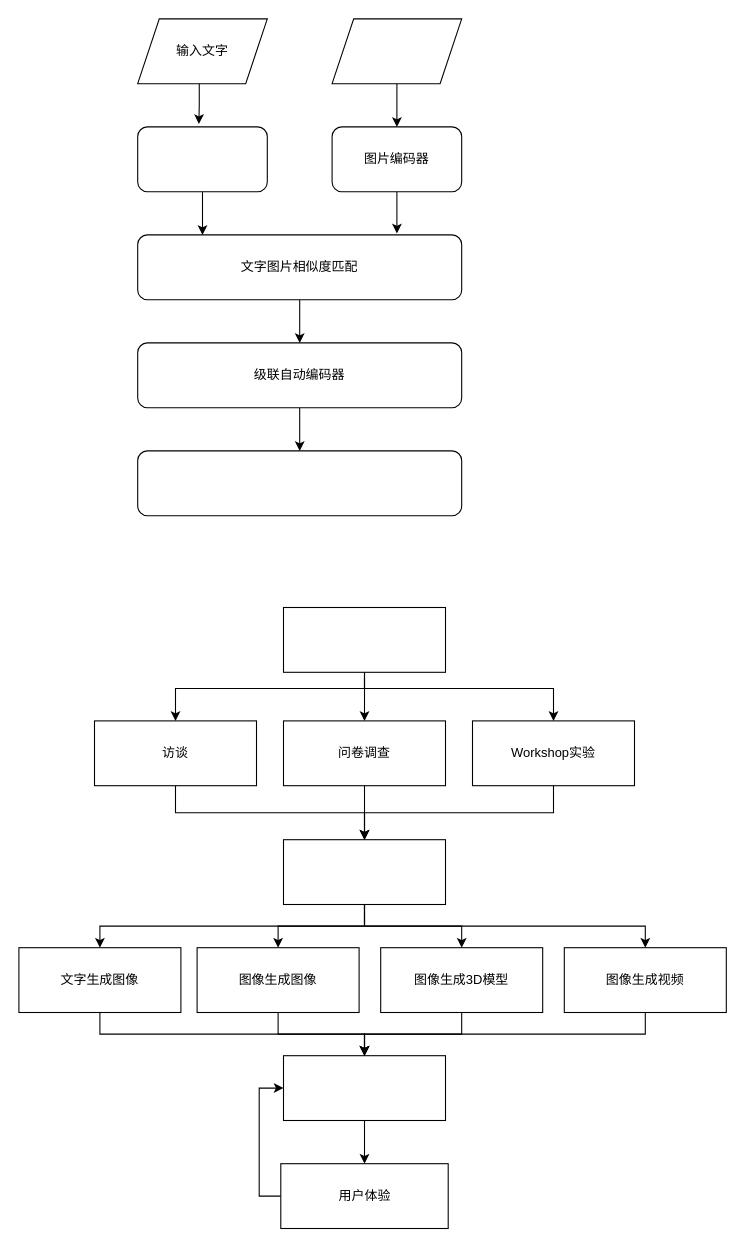
Some shapes in this 745 by 1247 pixel diagram are drawn without their labels. Here are the shapes that lost their labels. From the top down, the centre of each, then its label:
At pixel 396 51: "输入图片".
At pixel 202 159: "文字编码器".
At pixel 299 483: "输出海报".
At pixel 364 639: "用户调研".
At pixel 364 872: "乡村文化数据库".
At pixel 364 1087: "交互系统".
